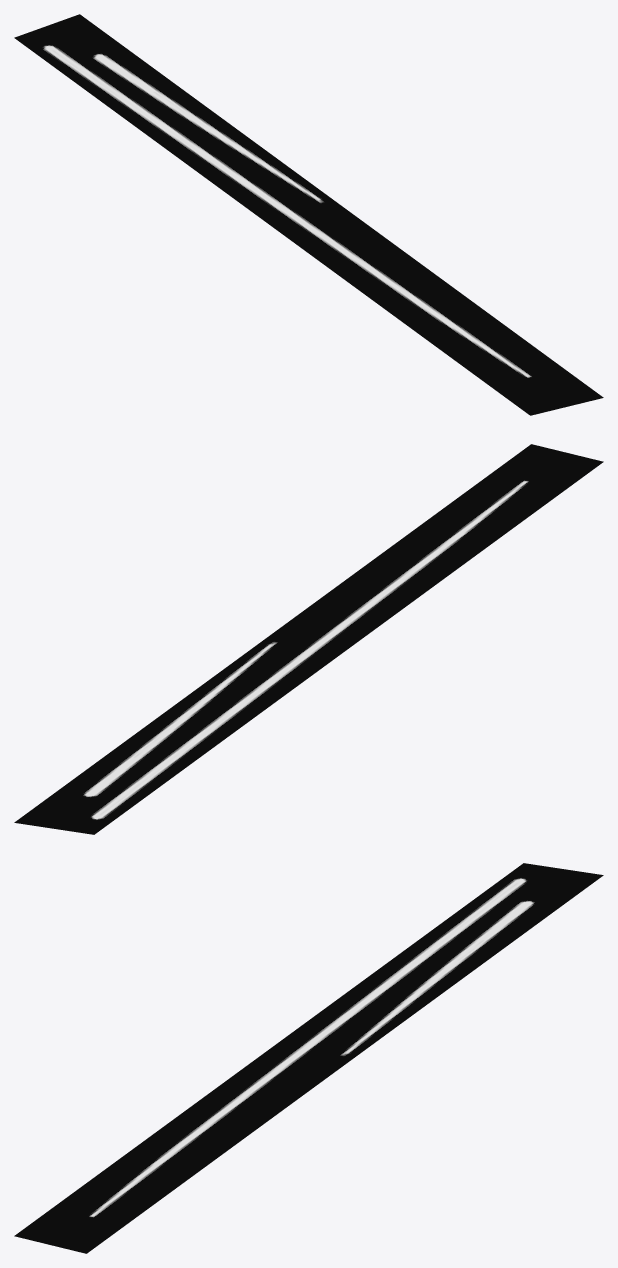
Rendered from SM_line_Straight_5.fbx.
The picture shows the model from 3 angles, top to bottom: view 1: azimuth 30°, elevation 25°; view 2: azimuth 150°, elevation 25°; view 3: azimuth 330°, elevation 25°; orthographic projection.
Parts seen in each view (by area): view 1: SM_line_Straight_5; view 2: SM_line_Straight_5; view 3: SM_line_Straight_5.
Part boxes in pixels (x1,y1,x2,y2): SM_line_Straight_5: [14, 14, 603, 415]; SM_line_Straight_5: [14, 444, 603, 834]; SM_line_Straight_5: [14, 863, 603, 1253].
Bounding box in the file's own units: 8.57 × 0 × 106.
